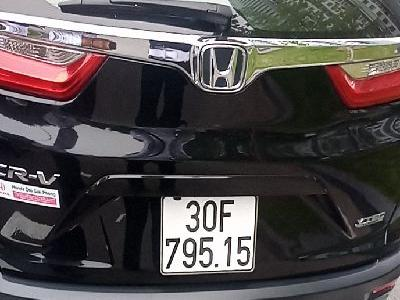car: (159, 195, 258, 275)
